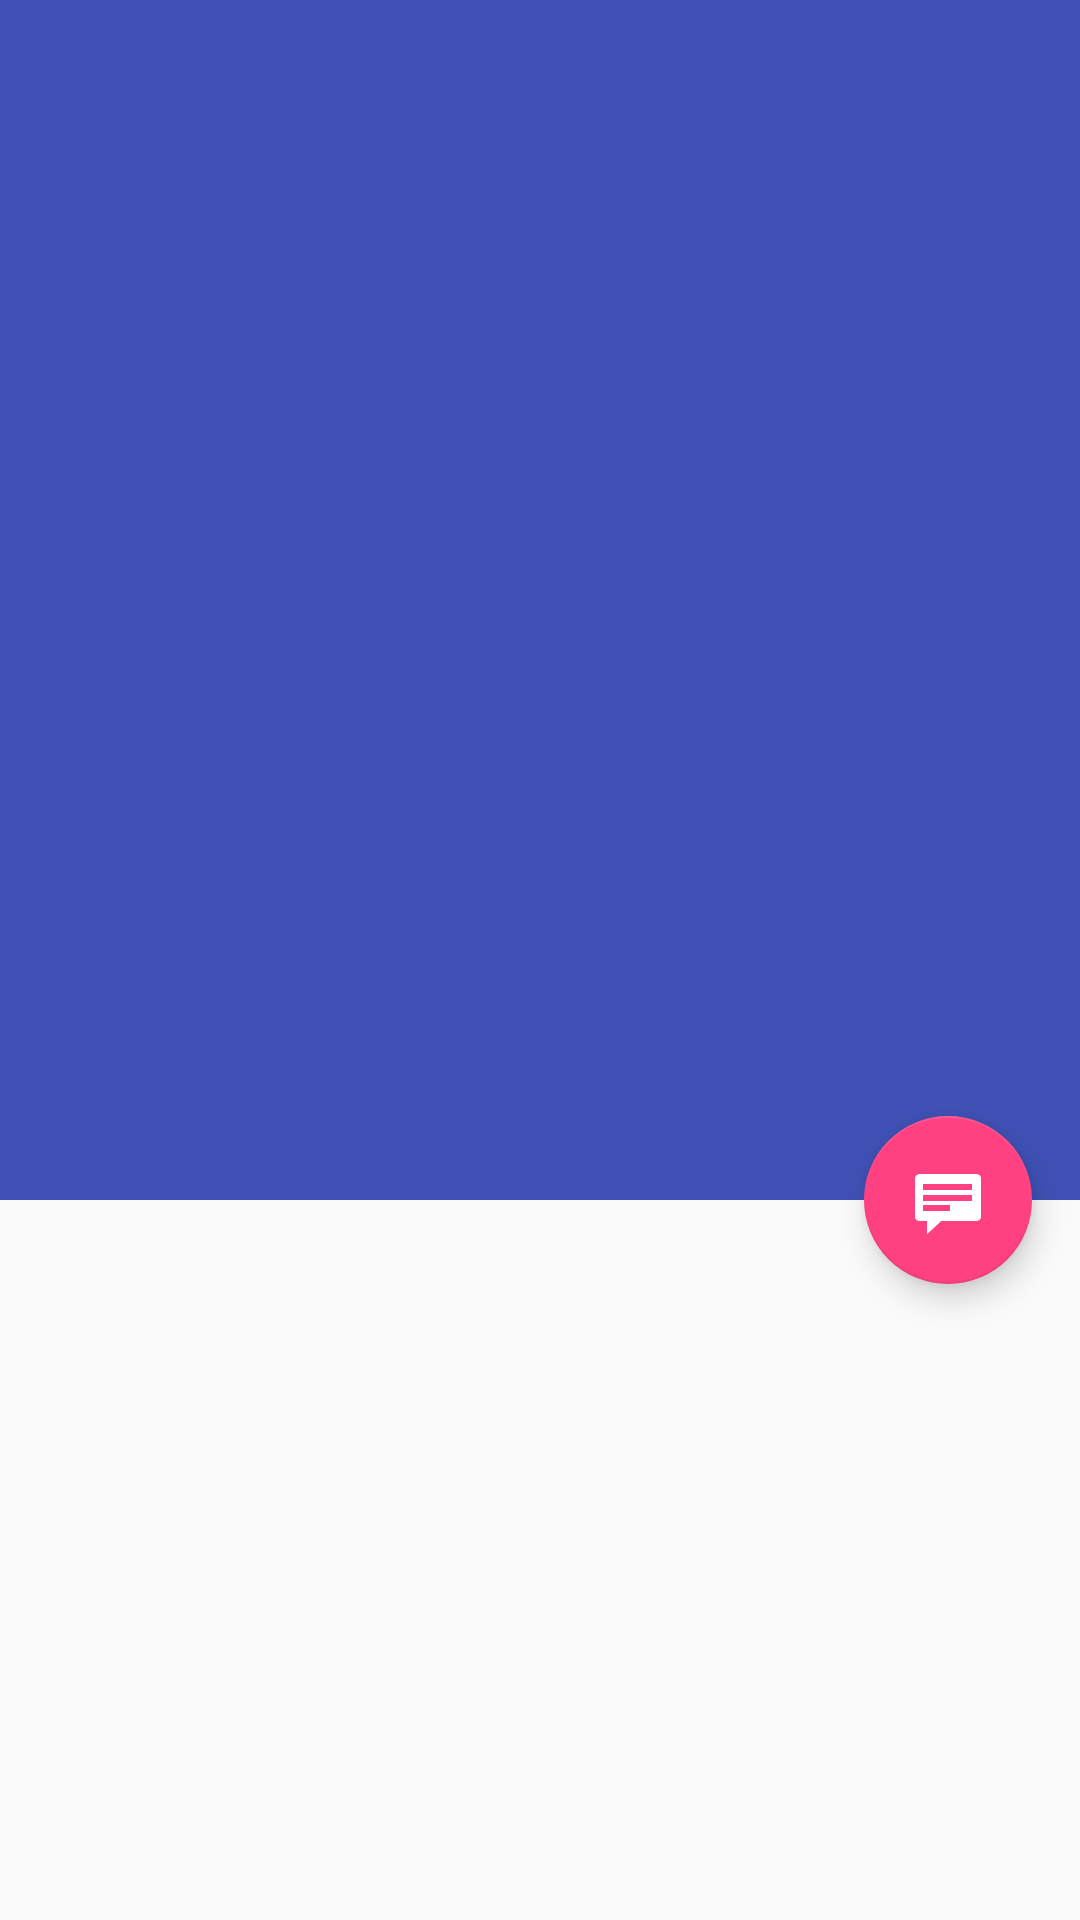

Point at icon controls on the screen. Image size 1080 x 1920, points as [x,y].
chat: [948,1200]
